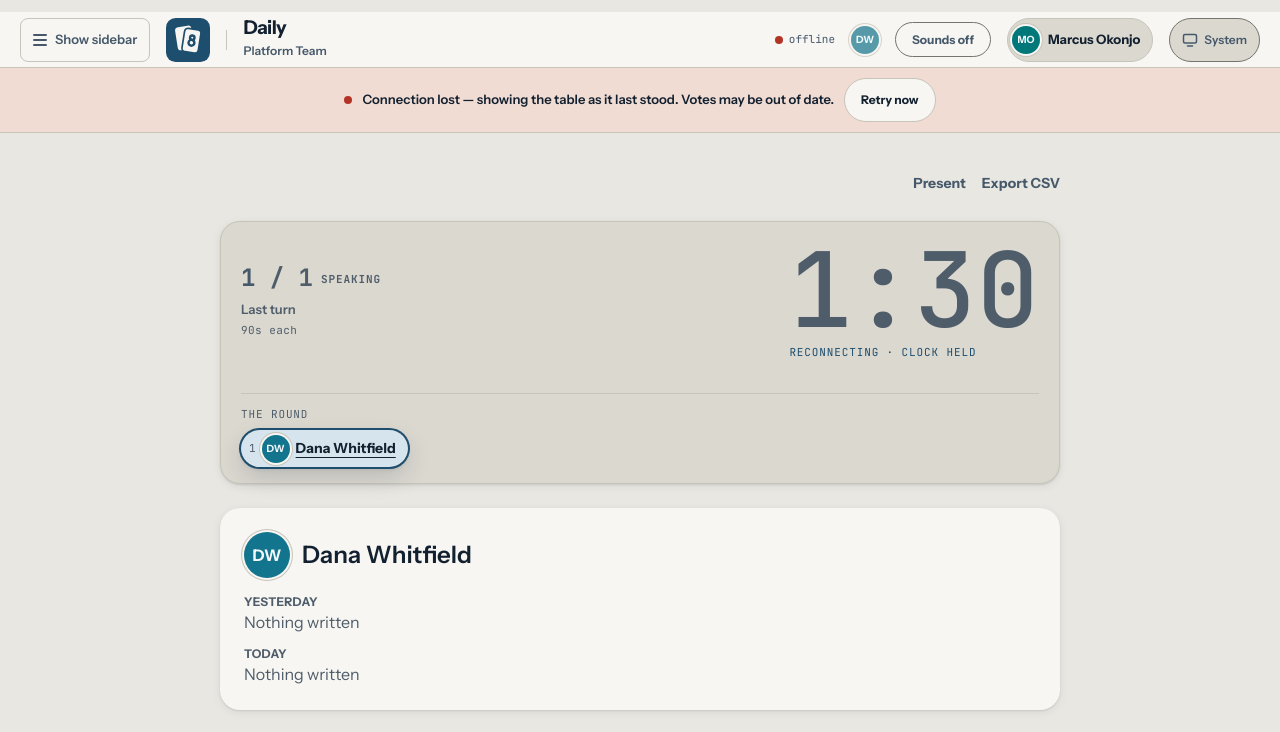
Test: SessionPage wiring › restores the saved header state and reports a failed change
The width and height of the screenshot is (1280, 732).
Click the button with aria-label "Unmute notification sounds": (943, 39) [895,22,991,57]
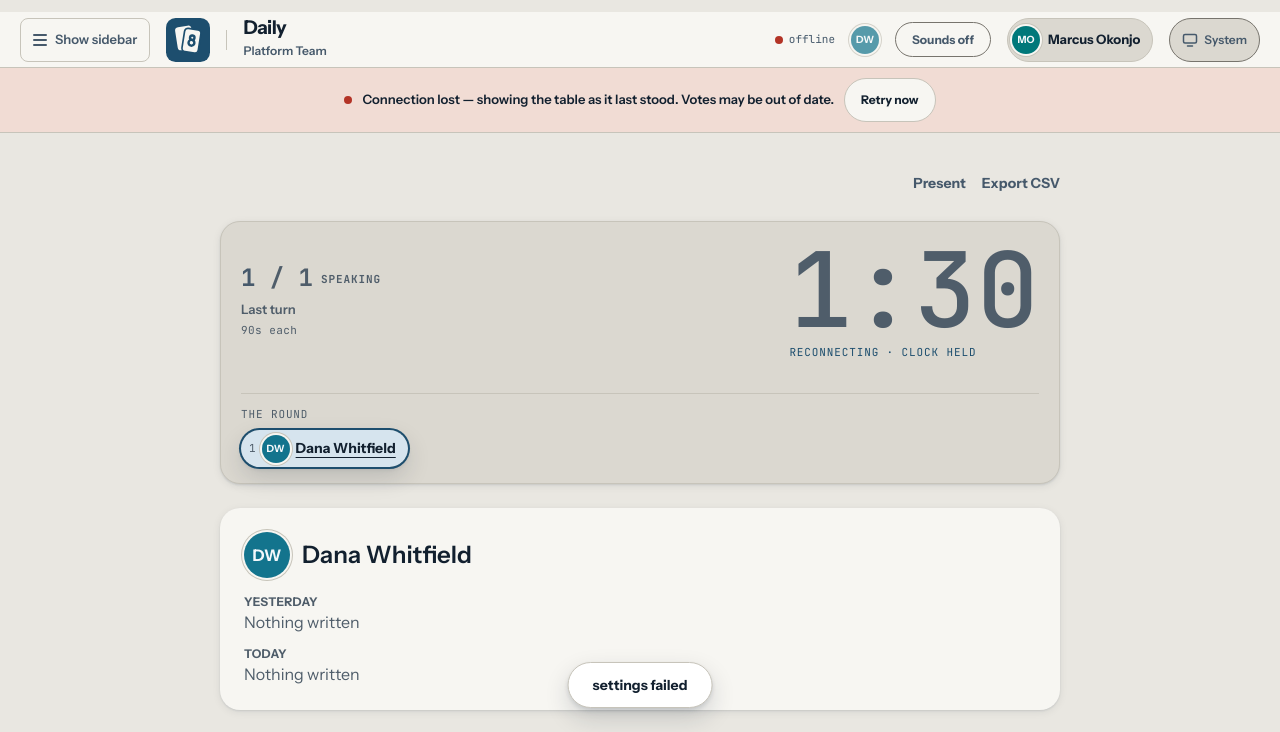
Check: the text "settings failed" is shown, box [568,662,712,708]
